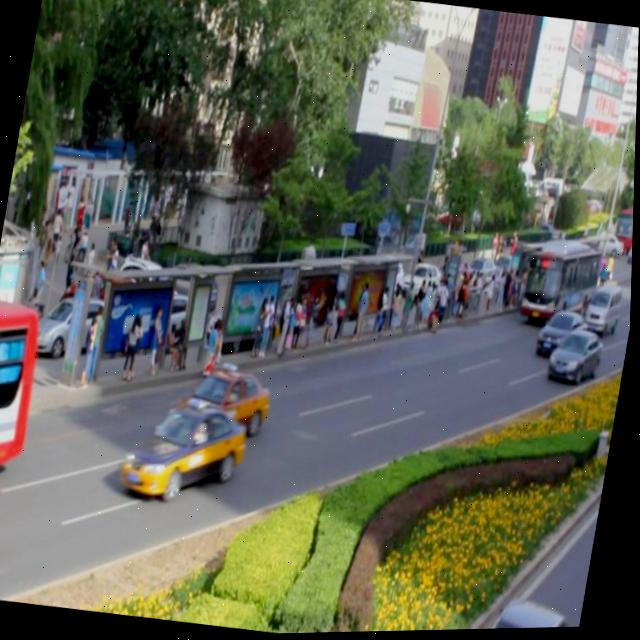car: (121, 395, 253, 510), (168, 360, 276, 448), (547, 328, 605, 389), (535, 310, 591, 368)
truck: (583, 283, 624, 338)
van: (0, 292, 49, 489), (520, 238, 604, 330)
